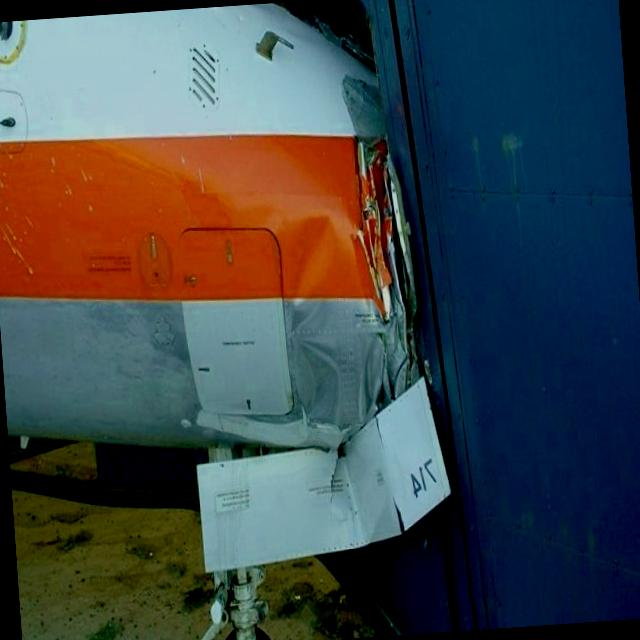dent: (279, 204, 360, 440)
